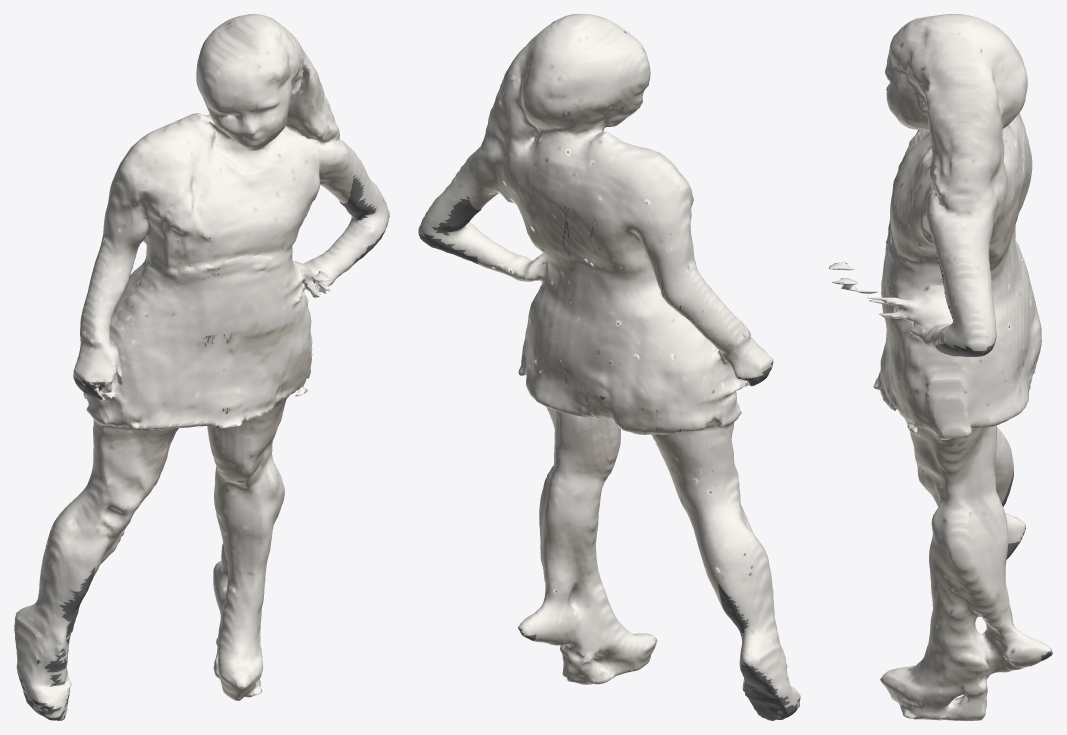
File: pifuhd-ariana-256-textured-fixed.glb
3 views of the same model, side by side, from view 1: azimuth 30°, elevation 25°; view 2: azimuth 150°, elevation 25°; view 3: azimuth 270°, elevation 25° (orthographic). The views are drawn at different scales.
Parts seen in each view (by area): view 1: textured_pifuhd_avatar; view 2: textured_pifuhd_avatar; view 3: textured_pifuhd_avatar.
Part boxes in pixels (x1,y1,x2,y2): textured_pifuhd_avatar: (14, 14, 389, 720); textured_pifuhd_avatar: (418, 14, 800, 720); textured_pifuhd_avatar: (829, 14, 1052, 720).
Bounding box in the file's own units: 1.01 × 1.72 × 0.4919.
2 materials, 1 textured.
